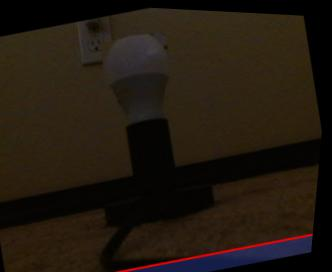Fan: (96, 27, 180, 105)
